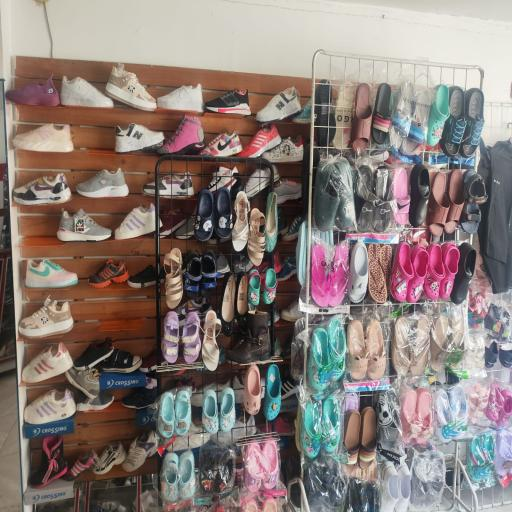boots: (226, 311, 270, 364), (29, 435, 68, 488)
sandal: (314, 239, 369, 305), (311, 244, 365, 307), (300, 400, 358, 458), (400, 89, 431, 155), (439, 86, 467, 157), (157, 391, 177, 490), (194, 190, 230, 242), (198, 186, 233, 238), (459, 88, 484, 158), (460, 170, 487, 234), (450, 242, 476, 304), (351, 83, 373, 154), (426, 84, 450, 147), (427, 172, 450, 237), (307, 328, 331, 390), (355, 165, 377, 232), (390, 242, 414, 302), (406, 244, 430, 303), (408, 164, 430, 228), (346, 319, 368, 381), (372, 165, 392, 233), (444, 169, 465, 233), (326, 316, 346, 381), (371, 83, 392, 144), (328, 244, 348, 307), (391, 316, 412, 376), (244, 442, 269, 492), (214, 450, 234, 512), (409, 314, 429, 376), (164, 248, 184, 310), (423, 244, 445, 300), (368, 244, 388, 304), (366, 320, 386, 380), (439, 242, 460, 299), (358, 407, 377, 469), (231, 191, 250, 252), (247, 208, 266, 266), (202, 310, 220, 371), (392, 168, 411, 225), (430, 313, 448, 372), (180, 251, 202, 299), (322, 395, 340, 453), (219, 271, 235, 336), (263, 364, 281, 421), (401, 388, 419, 444), (182, 311, 201, 364), (160, 452, 179, 503), (416, 387, 433, 444), (344, 409, 361, 465), (200, 250, 220, 297), (262, 437, 280, 489), (162, 311, 180, 363), (243, 364, 261, 414), (179, 450, 196, 500), (469, 382, 489, 424), (234, 272, 248, 331), (201, 389, 219, 434), (265, 192, 278, 252), (484, 383, 504, 422), (219, 387, 236, 432), (175, 389, 191, 436), (199, 451, 215, 492), (496, 388, 512, 428), (380, 244, 392, 295), (247, 269, 261, 306), (263, 269, 277, 304)
shoe: (105, 64, 157, 112), (18, 297, 74, 339), (21, 342, 73, 384), (12, 173, 72, 206), (156, 114, 205, 154), (56, 208, 112, 242), (24, 388, 76, 424), (60, 75, 114, 108), (114, 203, 162, 240), (5, 74, 60, 106), (12, 124, 74, 152), (256, 87, 301, 124), (76, 167, 129, 198), (25, 259, 78, 289), (122, 430, 158, 472), (191, 378, 243, 407), (114, 123, 164, 153), (238, 124, 282, 158), (74, 338, 114, 371), (157, 84, 203, 112), (142, 173, 194, 197), (204, 90, 251, 116), (200, 129, 242, 157), (262, 135, 304, 163), (92, 441, 126, 475), (88, 260, 129, 288), (65, 368, 100, 399), (63, 450, 97, 481), (101, 349, 142, 373), (208, 166, 240, 194), (127, 265, 165, 288), (159, 207, 187, 238), (121, 387, 158, 409), (244, 167, 270, 198), (76, 391, 114, 411), (257, 416, 295, 436), (173, 208, 196, 240), (274, 178, 302, 204), (268, 302, 280, 356), (254, 252, 282, 274), (282, 215, 304, 241), (281, 367, 298, 400), (138, 346, 158, 374), (262, 268, 277, 304), (280, 300, 304, 322), (277, 256, 297, 281), (292, 100, 312, 124), (232, 254, 253, 275), (278, 206, 290, 235), (216, 253, 230, 277)
